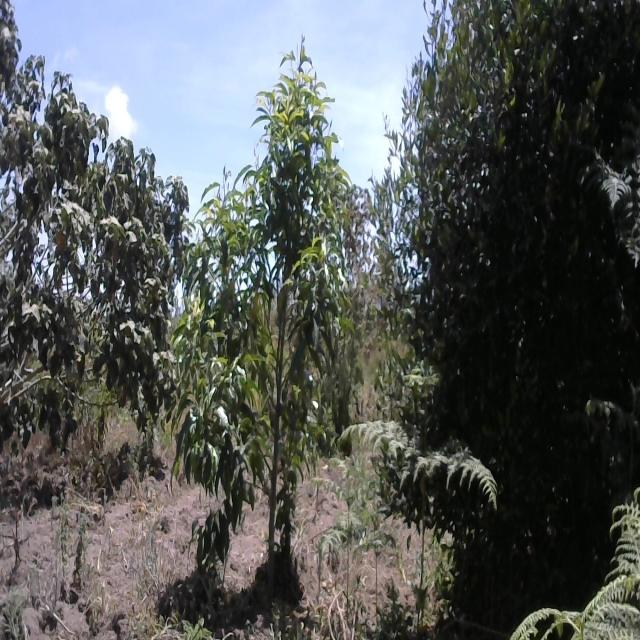Salix alba: (370, 1, 640, 616)
Syzygium gineense: (175, 31, 362, 576)
other: (0, 8, 180, 452)
